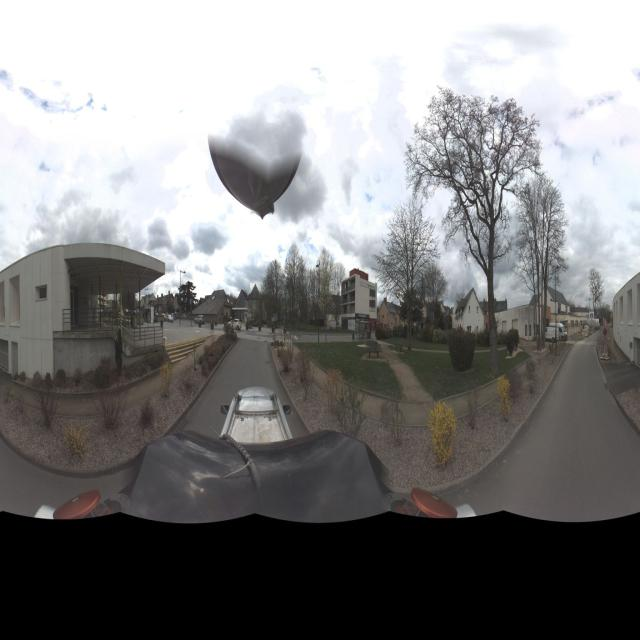car: (546, 322, 568, 341)
